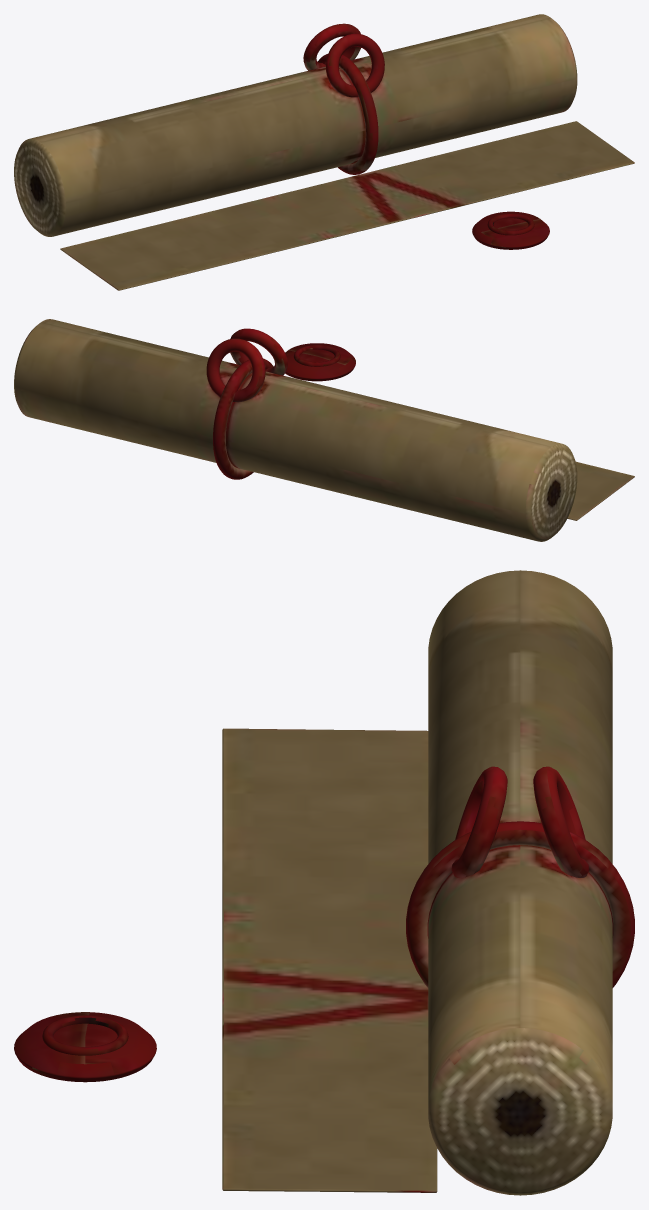
Rendered from land_claim.glb.
3 views of the same model, one above another, from view 1: azimuth 30°, elevation 25°; view 2: azimuth 150°, elevation 25°; view 3: azimuth 270°, elevation 25° (orthographic). The views are drawn at different scales.
Parts seen in each view (by area): view 1: land_claim; view 2: land_claim; view 3: land_claim.
Boxes of the visible parts, bbox=[...] form: land_claim: bbox=[14, 14, 634, 290]; land_claim: bbox=[14, 319, 634, 541]; land_claim: bbox=[14, 570, 634, 1195].
Size of the model in its own units: 0.32 by 0.083 by 0.1813.
Materials: 1 (1 with a texture image).
